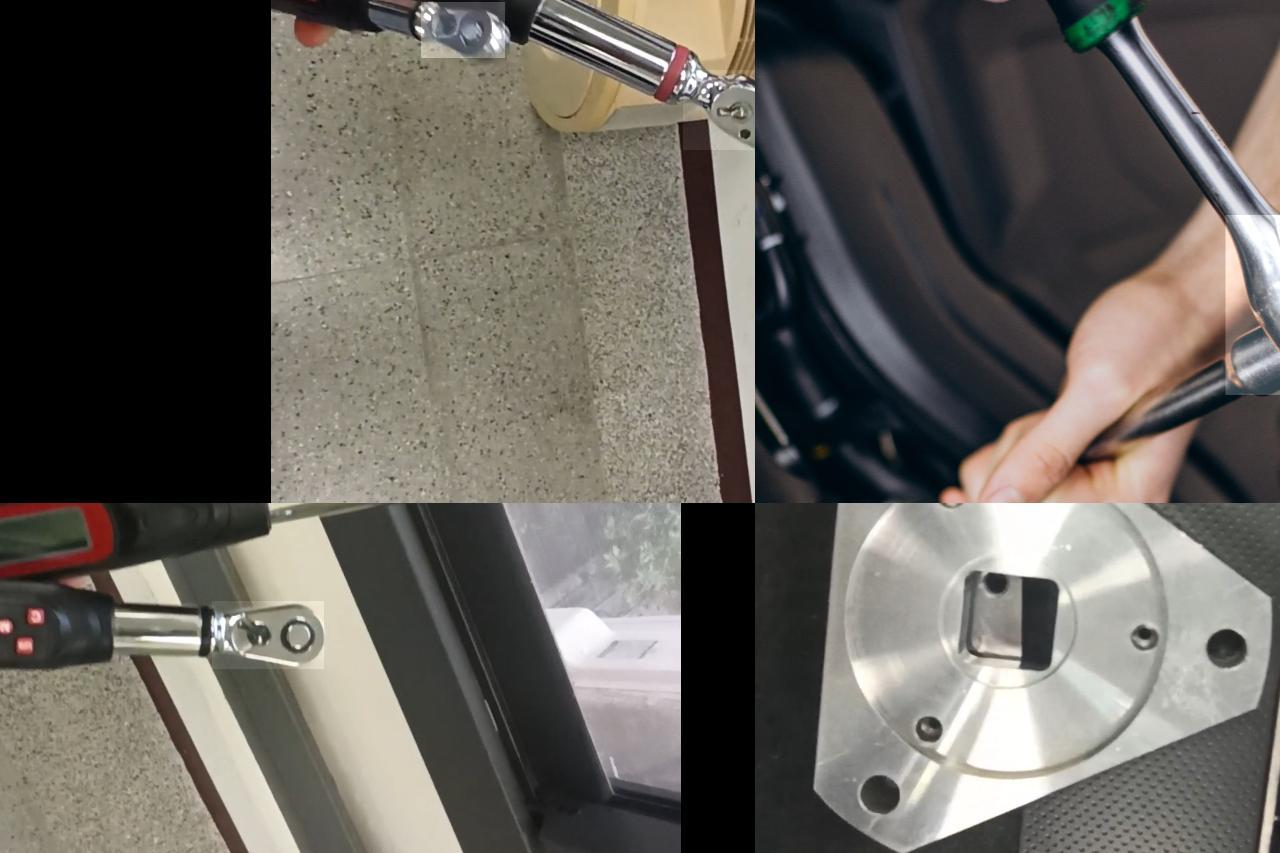Tool: (1225, 214, 1280, 394), (211, 601, 323, 669), (682, 70, 755, 150), (420, 2, 504, 58)
